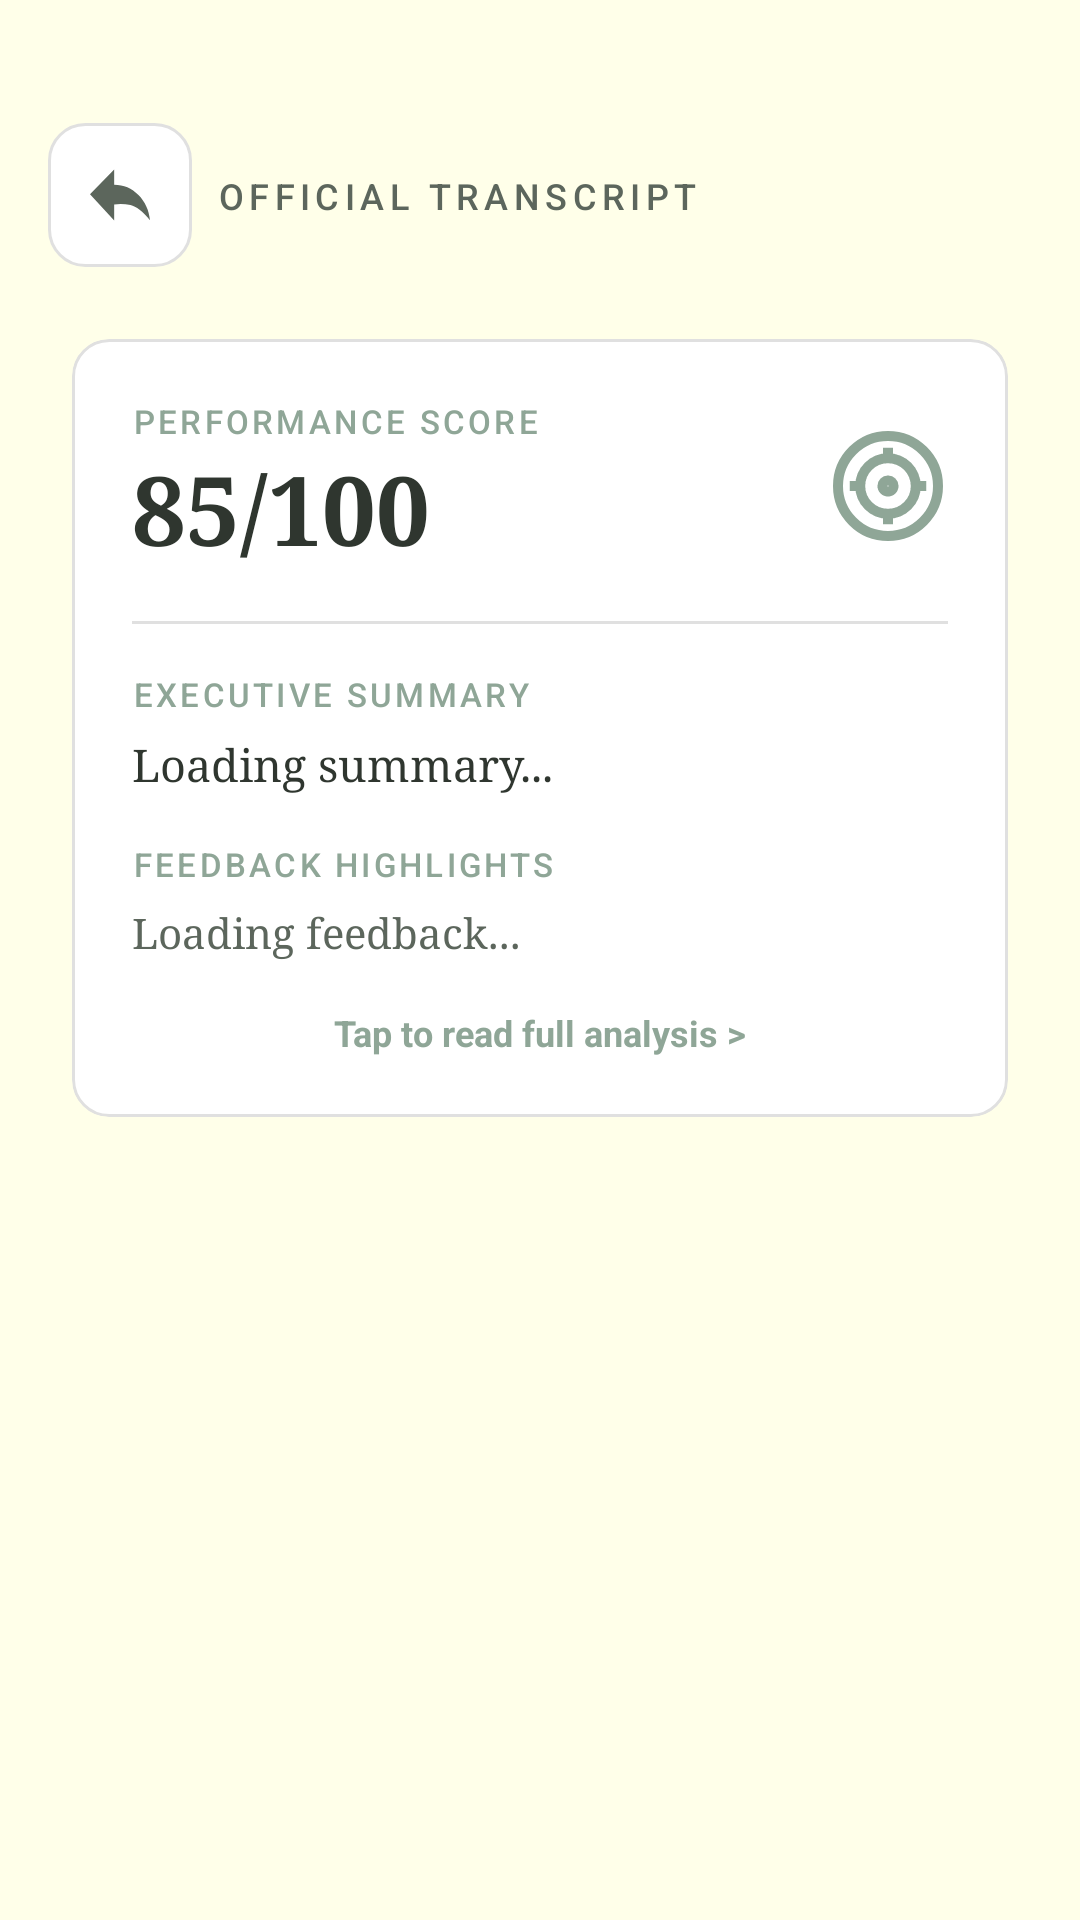

Named icons in this screenshot (1080px x 1920px) and their bounding boxes, [x1,y1,x2,y2]:
back: [48,123,192,267]
